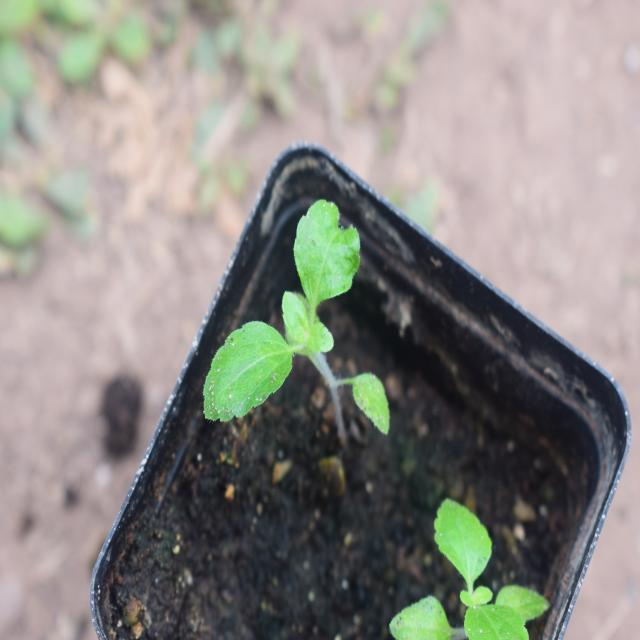billygoat_weed: (190, 204, 398, 449)
